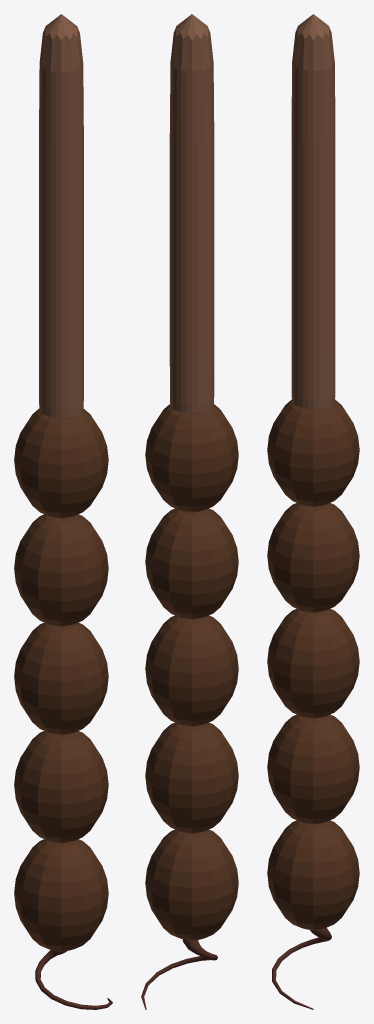
The model's file is Wand 219.glb.
3 renders of one model, left to right at view 1: azimuth 30°, elevation 25°; view 2: azimuth 210°, elevation 25°; view 3: azimuth 270°, elevation 25°, orthographic. The views are drawn at different scales.
Visible parts, largest first — view 1: GeneratedWand; view 2: GeneratedWand; view 3: GeneratedWand.
Boxes of the visible parts, box(x1,y1,x2,y2) form: GeneratedWand: box(14, 14, 112, 1009); GeneratedWand: box(141, 14, 238, 1009); GeneratedWand: box(267, 14, 359, 1009).
Size of the model in its own units: 0.0481 by 0.5218 by 0.0449.
